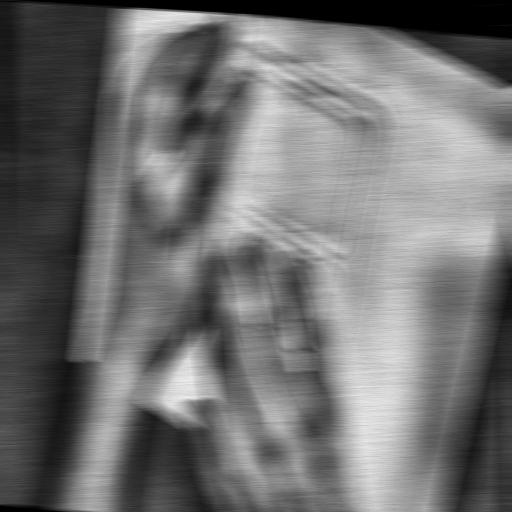bottom_left: (73, 354, 87, 363)
mobile: (171, 14, 403, 460)
